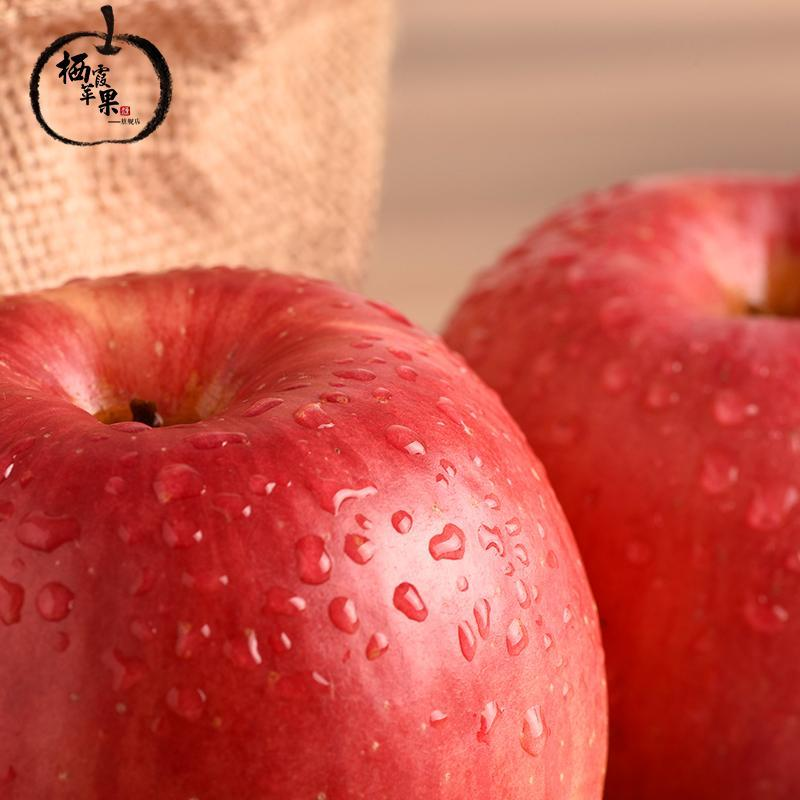apple: (2, 248, 630, 795), (432, 185, 800, 796)
